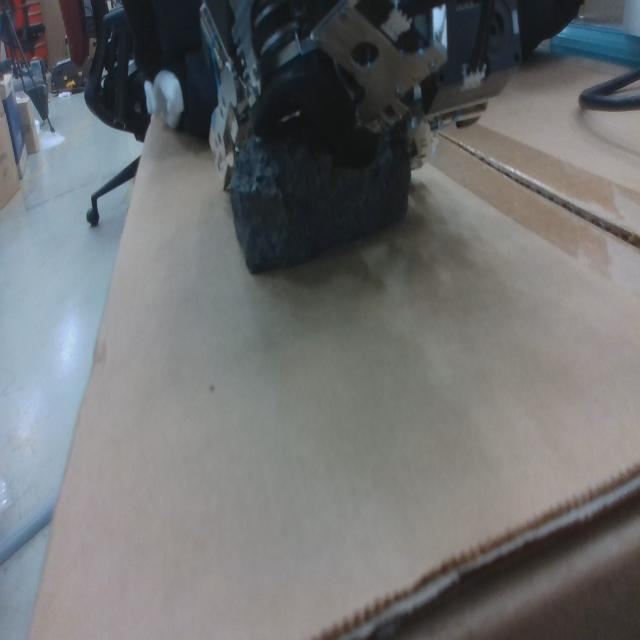stone: (229, 131, 412, 279)
